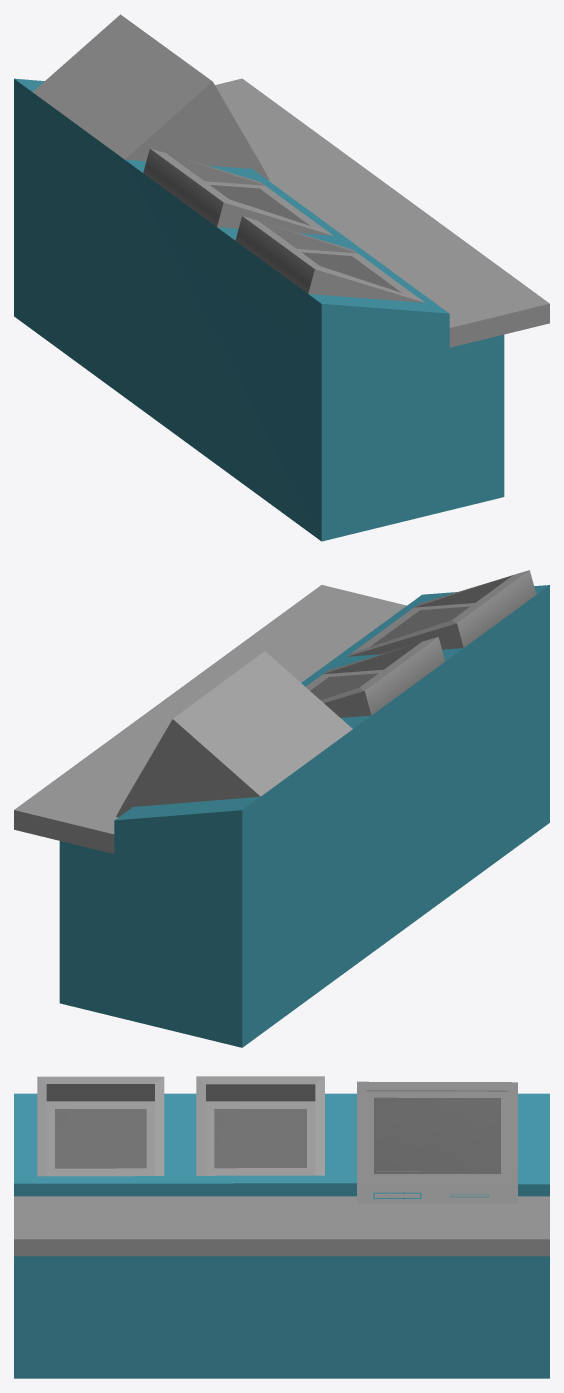
File: C_ComputerConsole.fbx
3 views of the same model, one above another, from view 1: azimuth 30°, elevation 25°; view 2: azimuth 150°, elevation 25°; view 3: azimuth 270°, elevation 25° (orthographic). The views are drawn at different scales.
Parts seen in each view (by area): view 1: C_ComputerConsole; view 2: C_ComputerConsole; view 3: C_ComputerConsole.
Boxes of the visible parts, x1,y1,x2,y2 form: C_ComputerConsole: (14, 14, 549, 541); C_ComputerConsole: (14, 570, 549, 1047); C_ComputerConsole: (14, 1076, 549, 1378).
Bounding box in the file's own units: 4.54 × 5.59 × 10.59.
